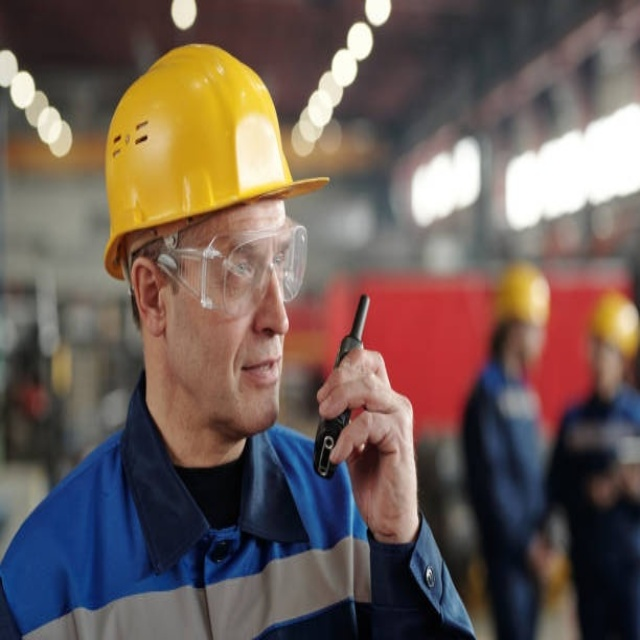Gafas: (134, 218, 310, 309)
Sin_guantes: (316, 345, 420, 539)
Sin_mascara: (227, 347, 290, 425)
